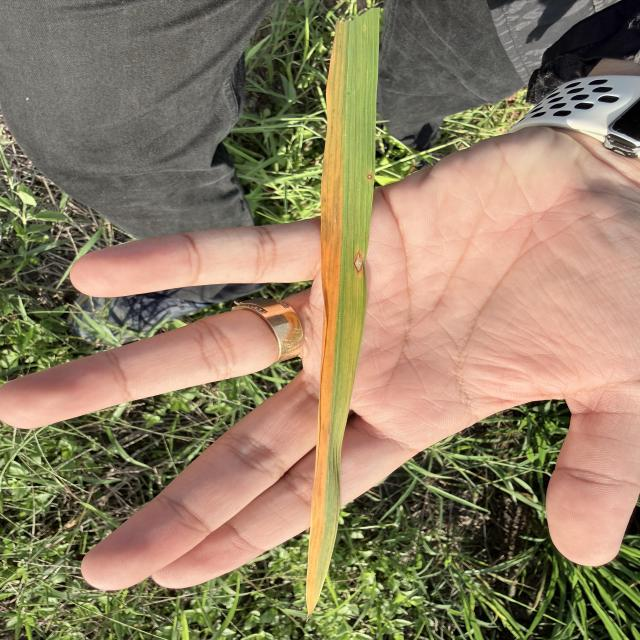Chay bia la: (303, 21, 348, 619)
